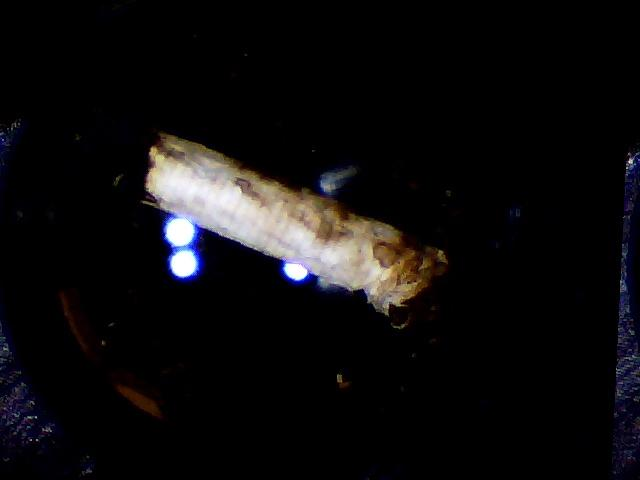megot: (119, 118, 464, 333)
